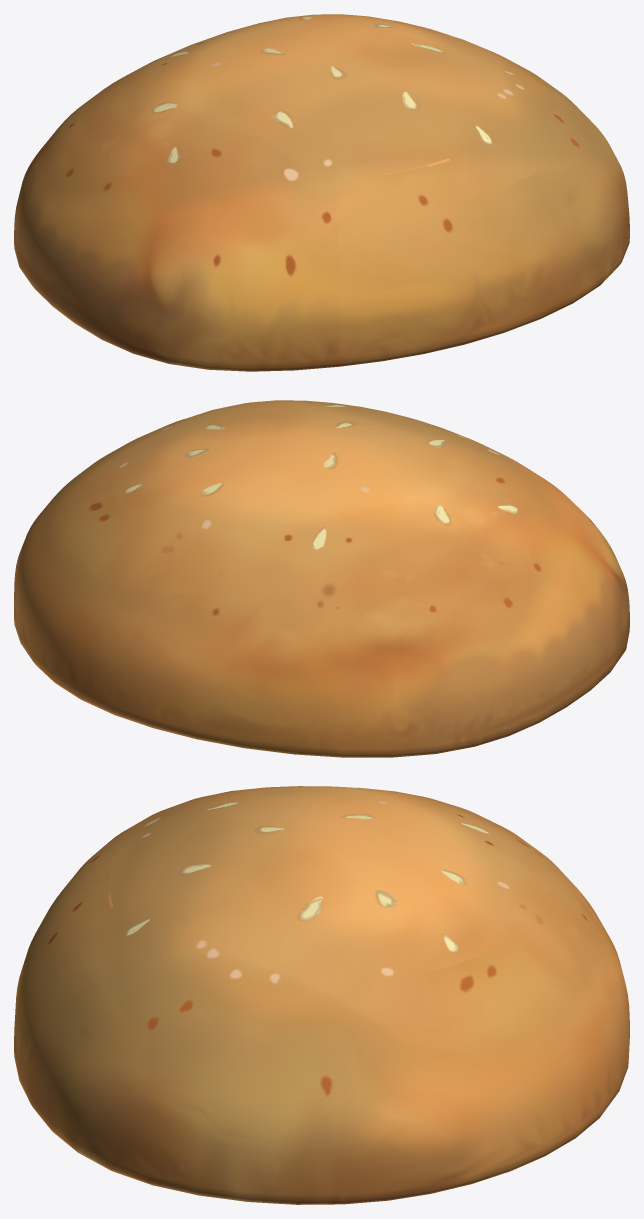
File: bun.fbx
3 views of the same model, one above another, from view 1: azimuth 30°, elevation 25°; view 2: azimuth 150°, elevation 25°; view 3: azimuth 270°, elevation 25° (orthographic). The views are drawn at different scales.
Parts seen in each view (by area): view 1: top_bun; view 2: top_bun; view 3: top_bun.
Part boxes in pixels (x1,y1,x2,y2): top_bun: (14, 14, 629, 371); top_bun: (14, 400, 629, 757); top_bun: (14, 786, 629, 1204).
Size of the model in its own units: 16.33 by 6.04 by 14.32.
